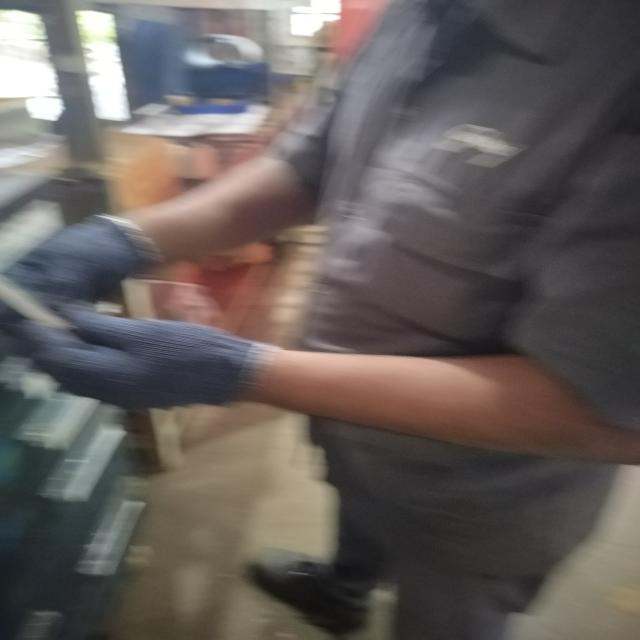Gloves-Detection: (47, 305, 255, 407), (2, 213, 139, 299)
